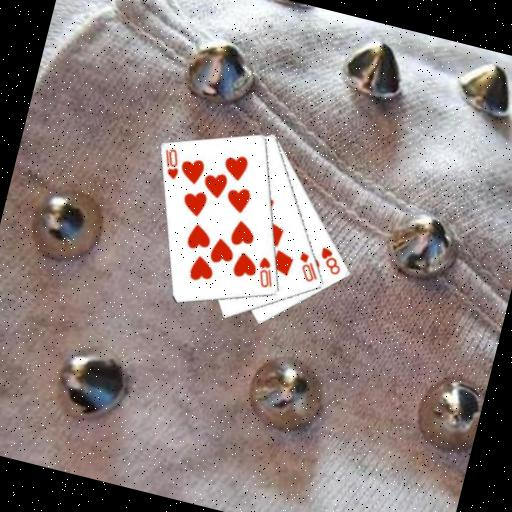10D: (291, 248, 325, 286)
10H: (251, 253, 281, 292), (156, 144, 186, 182)
8H: (314, 243, 347, 278)
